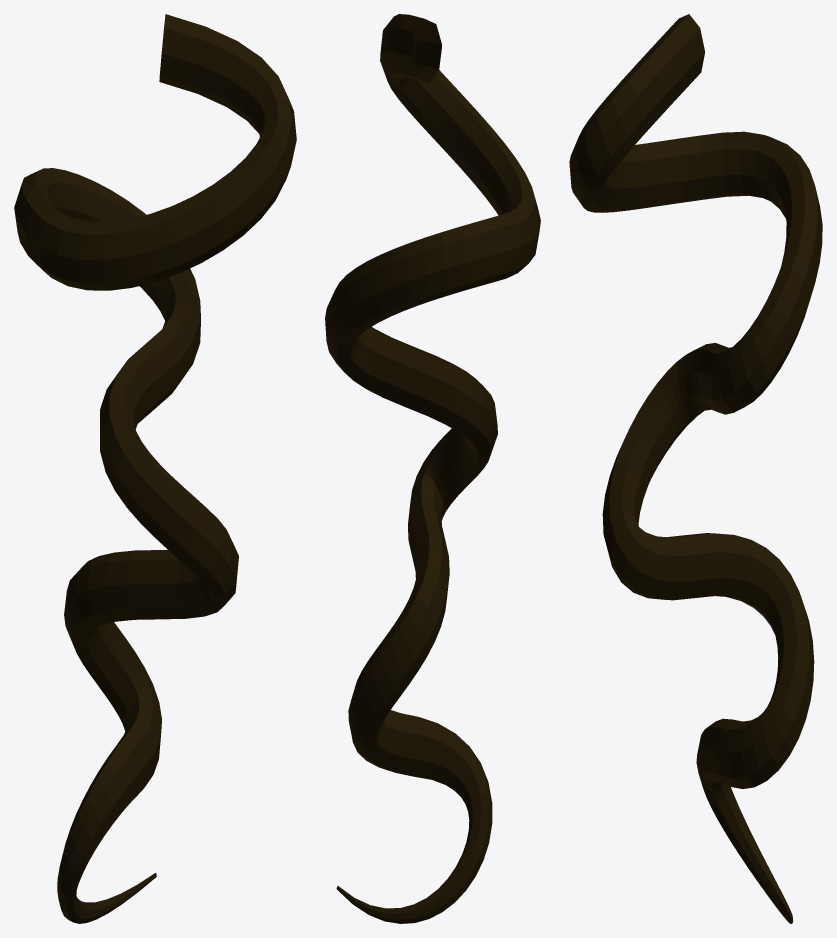
Rendered from Zarośl1.fbx.
3 views of the same model, side by side, from view 1: azimuth 30°, elevation 25°; view 2: azimuth 150°, elevation 25°; view 3: azimuth 270°, elevation 25° (orthographic). The views are drawn at different scales.
Parts seen in each view (by area): view 1: BezierCurve.010; view 2: BezierCurve.010; view 3: BezierCurve.010.
Boxes of the visible parts, x1,y1,x2,y2 form: BezierCurve.010: (14, 14, 296, 923); BezierCurve.010: (325, 14, 540, 923); BezierCurve.010: (569, 14, 822, 923).
Size of the model in its own units: 0.6049 by 2.63 by 0.6638.
